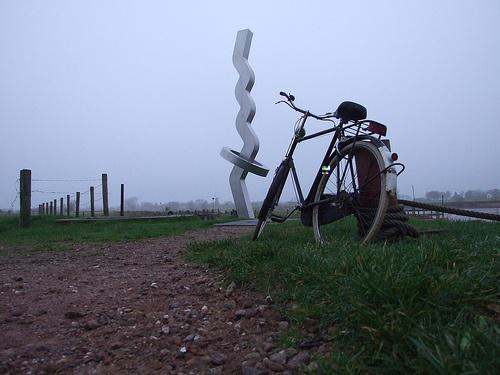car: (253, 93, 400, 247)
